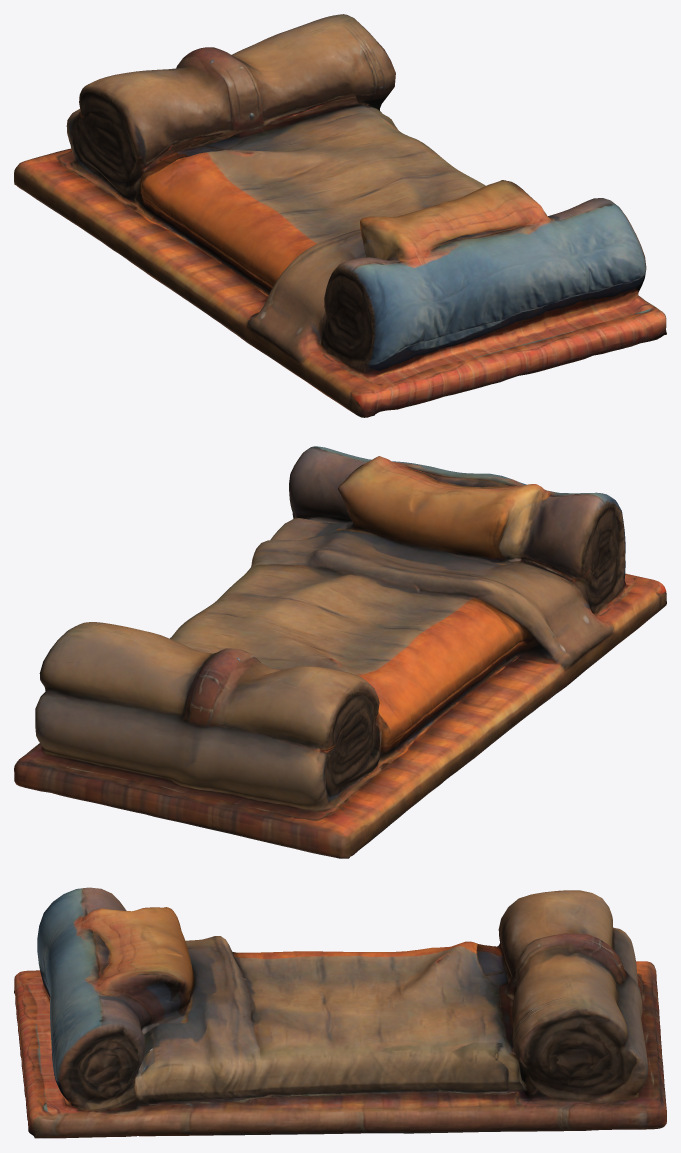
The model's file is AIcowboyCamp.glb.
3 views of the same model, one above another, from view 1: azimuth 30°, elevation 25°; view 2: azimuth 150°, elevation 25°; view 3: azimuth 270°, elevation 25° (orthographic). The views are drawn at different scales.
Bounding box in the file's own units: 1.16 × 0.4194 × 2.
1 material, 1 textured.
